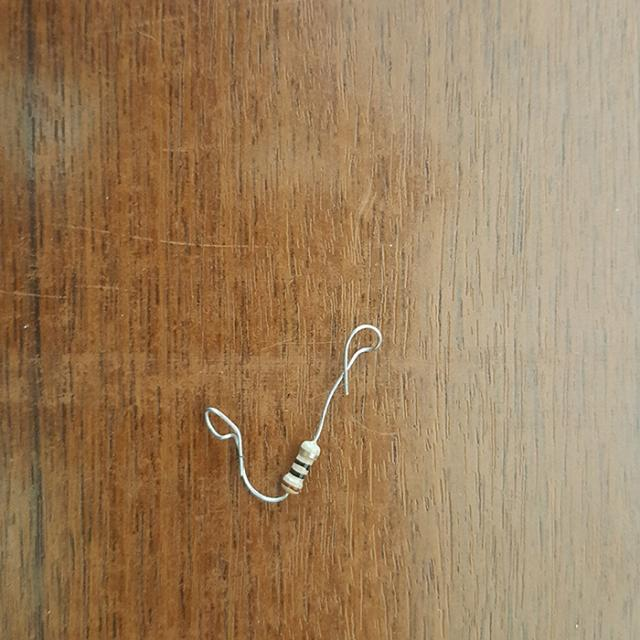black: (295, 458, 310, 469), (288, 469, 304, 479)
brown: (282, 478, 300, 490)
gold: (301, 444, 317, 457)
resistor: (272, 433, 331, 503)
